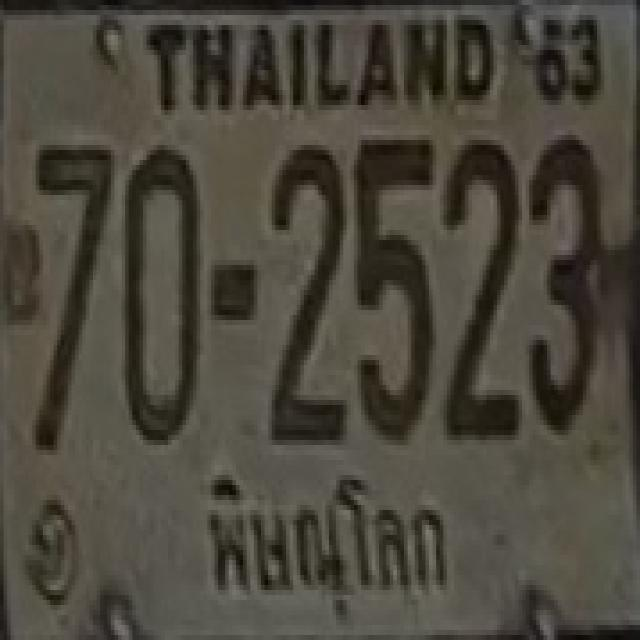0: (122, 142, 200, 442)
2: (442, 138, 516, 412), (270, 142, 345, 412), (442, 138, 516, 388)
3: (526, 135, 600, 430)
5: (354, 138, 433, 438)
7: (32, 140, 111, 440)
PLK: (184, 458, 464, 629)
